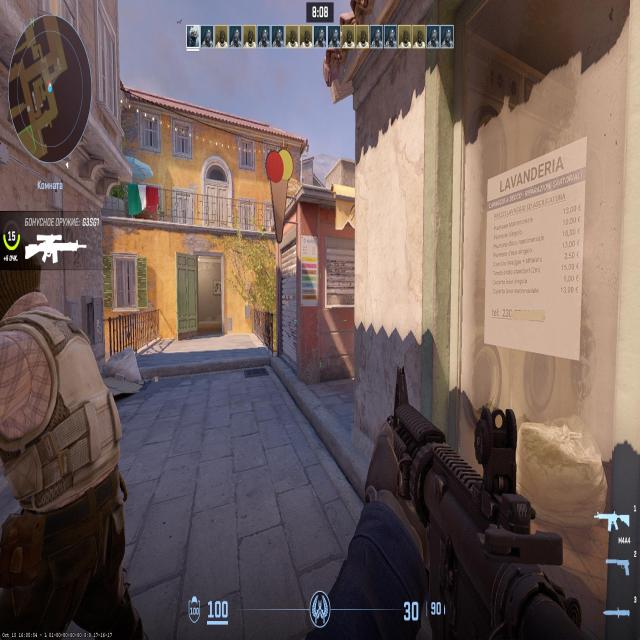T: (5, 294, 113, 595)
T_heat: (8, 278, 35, 337)
